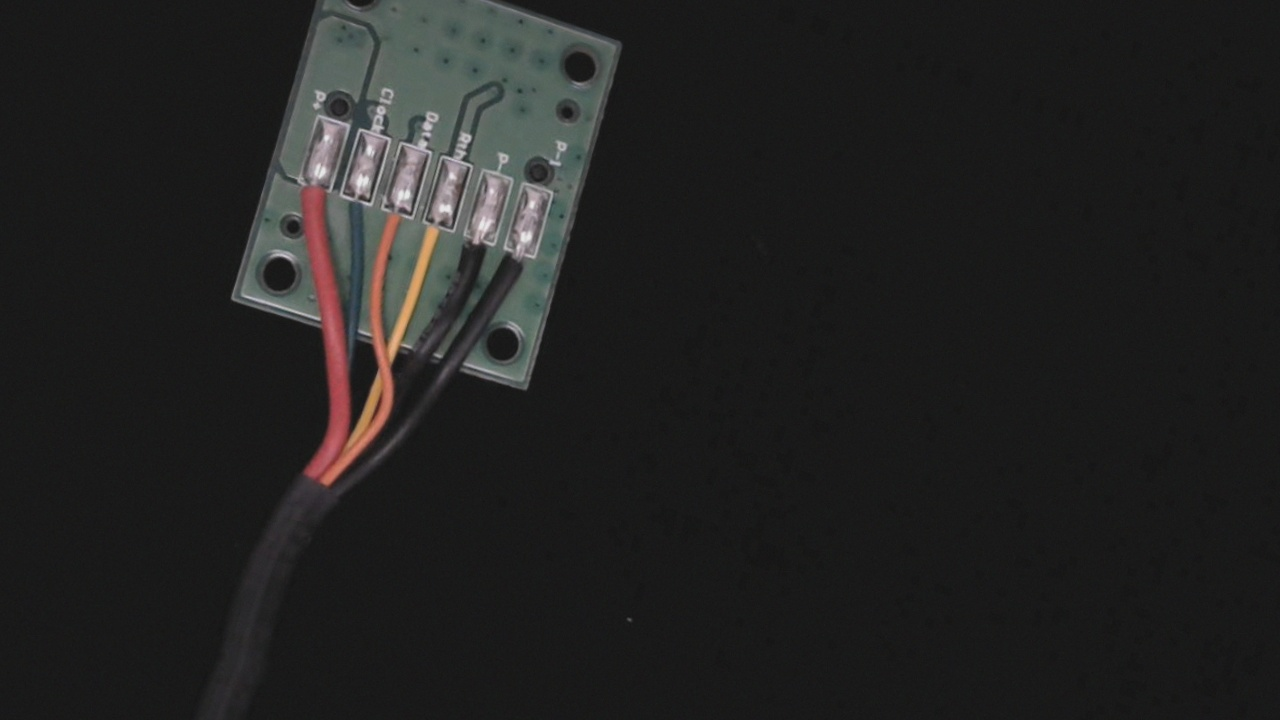Black: (443, 216, 499, 299)
Black1: (486, 229, 544, 311)
Green: (322, 174, 378, 252)
Orange: (368, 188, 419, 261)
Red: (282, 162, 336, 238)
Yellow: (405, 200, 459, 281)
